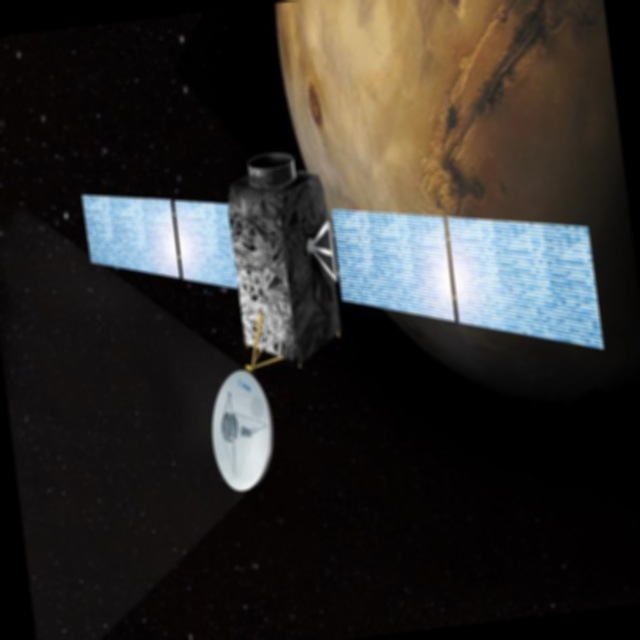medium_debris: (55, 78, 631, 535)
